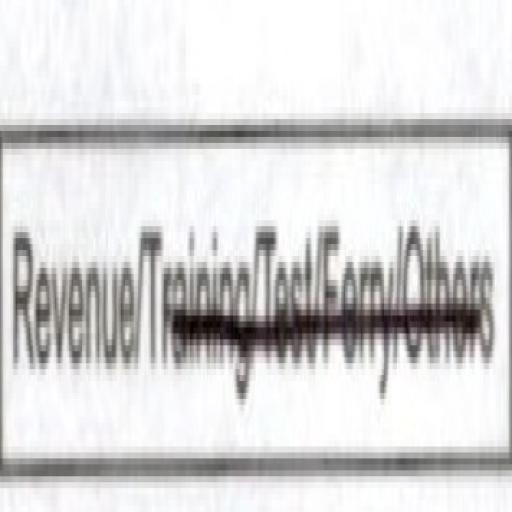check: (0, 47, 141, 512)
